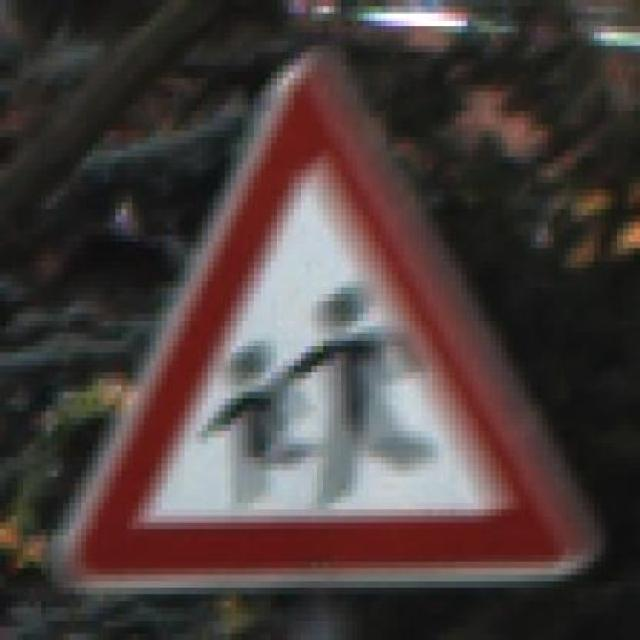Beware of children: (40, 46, 600, 588)
